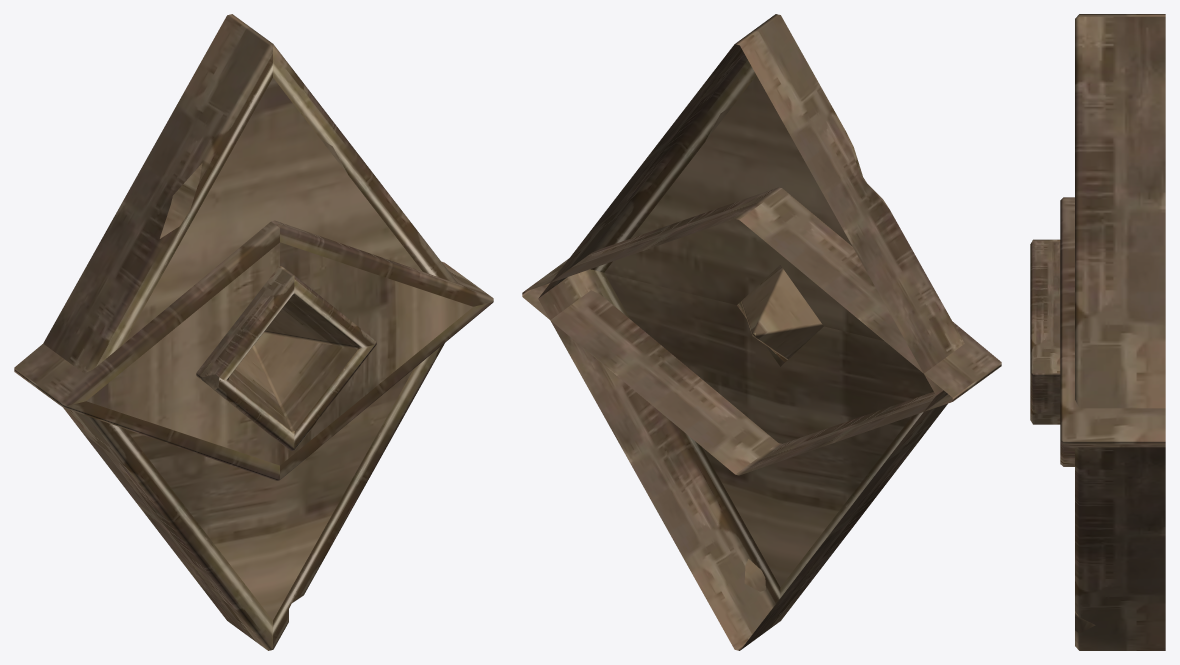
3 views of the same model, side by side, from view 1: azimuth 30°, elevation 25°; view 2: azimuth 150°, elevation 25°; view 3: azimuth 270°, elevation 25° (orthographic). The views are drawn at different scales.
Parts seen in each view (by area): view 1: SM_Spining_wheel_01_LOD0; view 2: SM_Spining_wheel_01_LOD0; view 3: SM_Spining_wheel_01_LOD0.
Boxes of the visible parts, x1,y1,x2,y2 form: SM_Spining_wheel_01_LOD0: (14,14,493,650); SM_Spining_wheel_01_LOD0: (522,14,1001,650); SM_Spining_wheel_01_LOD0: (1030,14,1165,650).
Size of the model in its own units: 0.7275 by 0.9772 by 0.1888.
